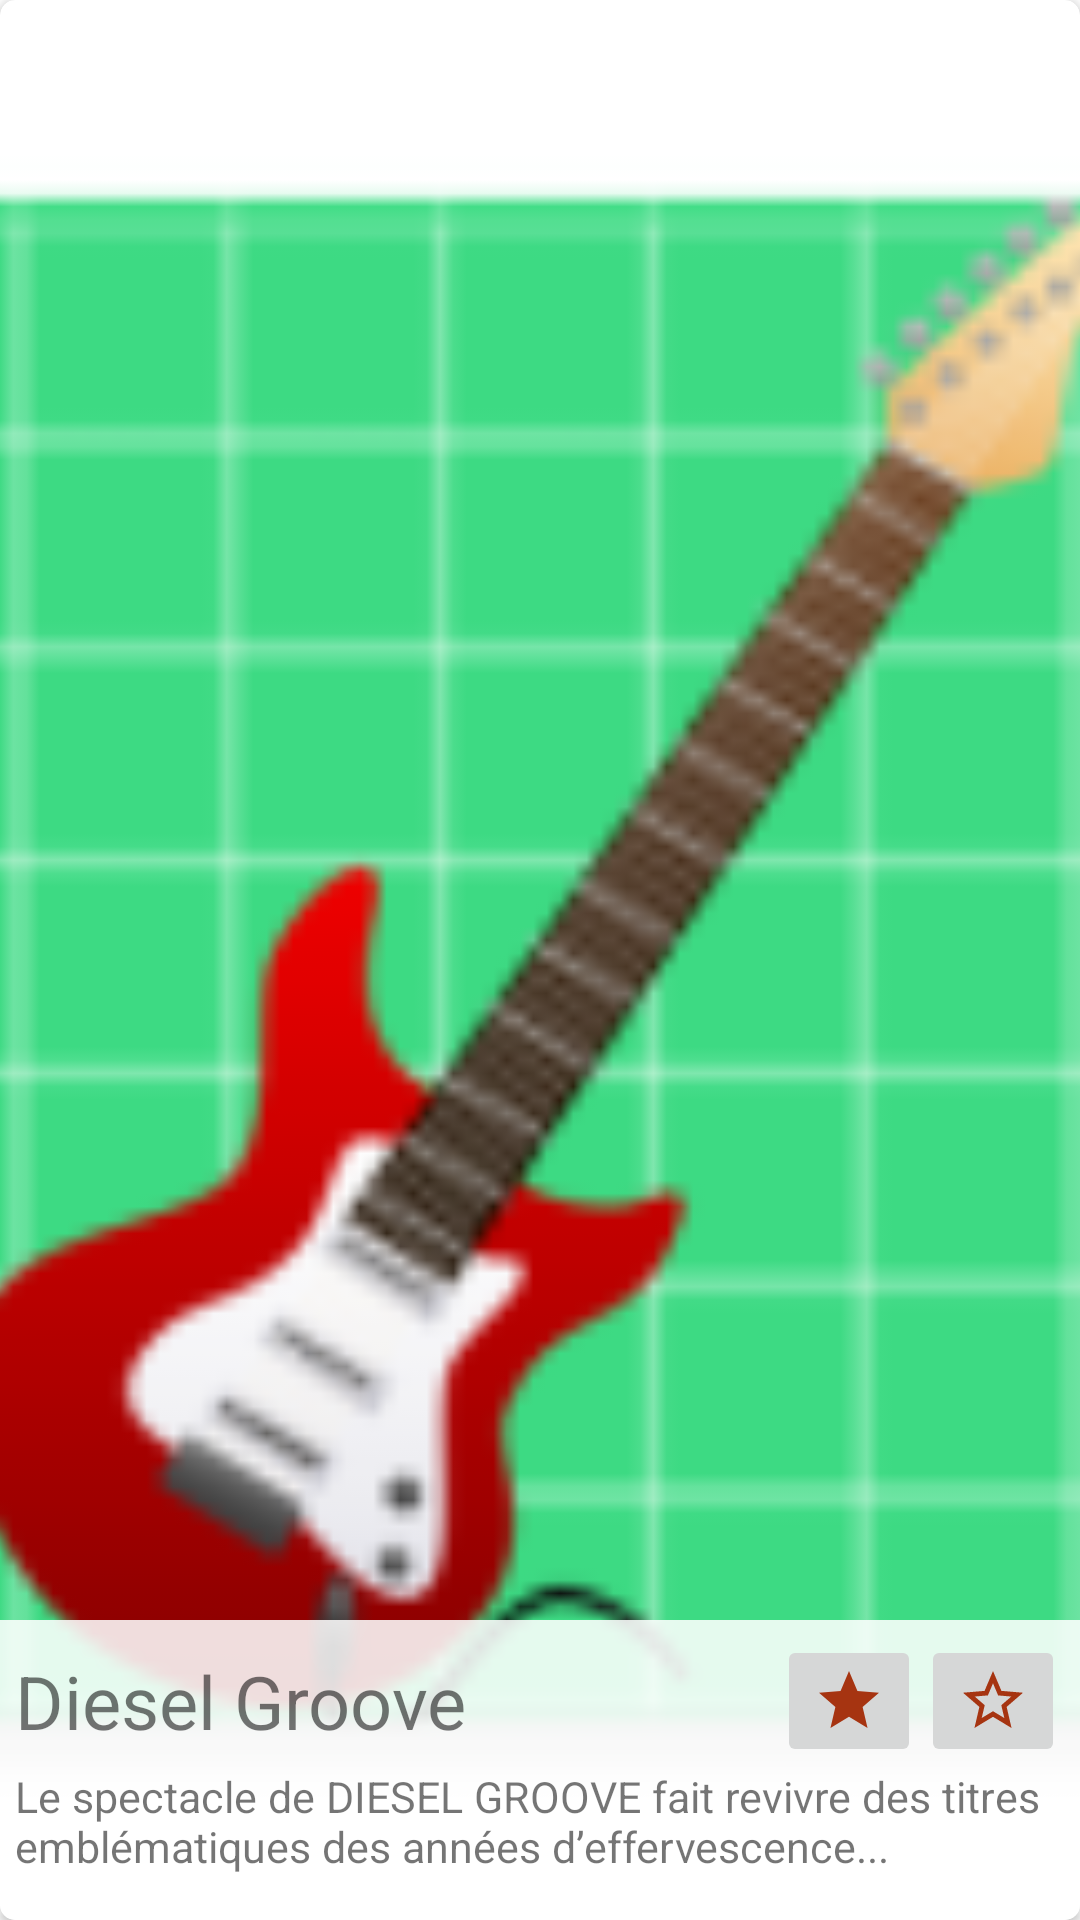

Screen size 1080px×1920px. Icon name, then its box in pixels as (x1, y1, x2, y2):
star: (789, 1653, 909, 1749)
unstar: (933, 1653, 1053, 1749)
